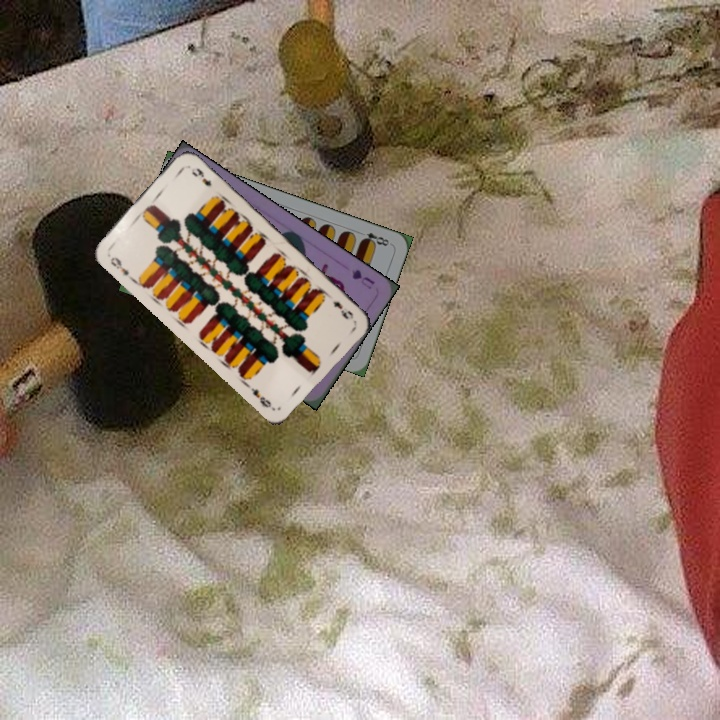E8: (357, 228, 394, 249)
E9: (106, 253, 136, 283), (329, 297, 356, 322)
GU: (347, 265, 377, 292)
